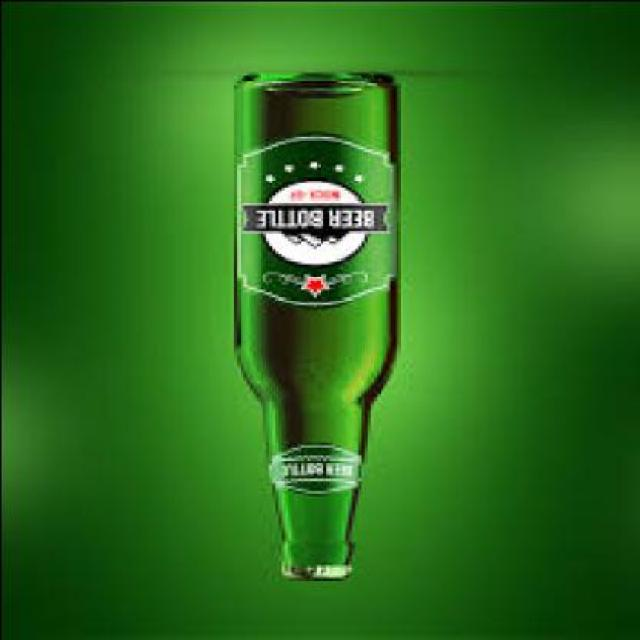GLASS: (236, 77, 402, 566)
METAL: (289, 566, 354, 582)
